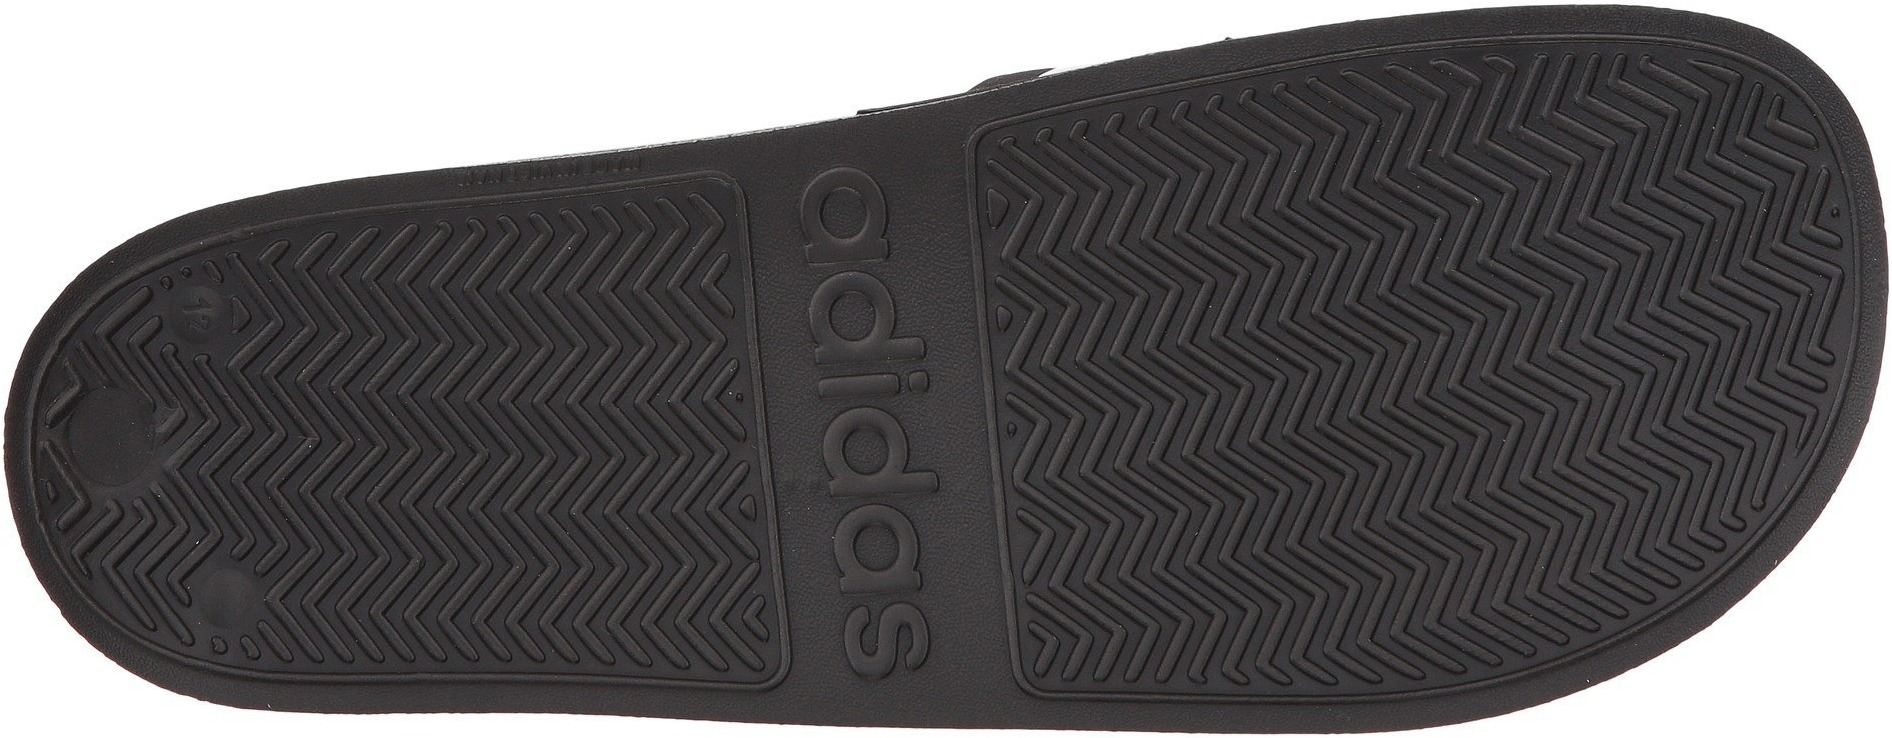chevron: (1273, 65, 1618, 412), (1005, 129, 1277, 385), (1284, 417, 1543, 675), (475, 223, 732, 473), (1035, 397, 1274, 652), (1623, 106, 1838, 322), (244, 248, 471, 451), (282, 455, 475, 658), (480, 480, 677, 675), (35, 336, 187, 506), (1557, 418, 1711, 580), (145, 525, 280, 656)
circle: (763, 166, 954, 370), (782, 383, 957, 574), (35, 336, 187, 506), (145, 525, 280, 656), (52, 367, 176, 499), (144, 254, 241, 359), (186, 557, 268, 632)
line: (52, 367, 176, 499)
text: (763, 166, 954, 370), (782, 383, 957, 574), (821, 587, 951, 702), (144, 254, 241, 359)
